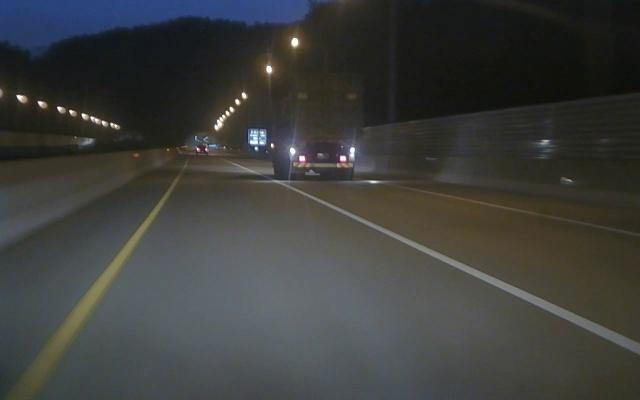lane: (285, 184, 639, 354), (6, 199, 164, 399), (400, 185, 640, 237)
